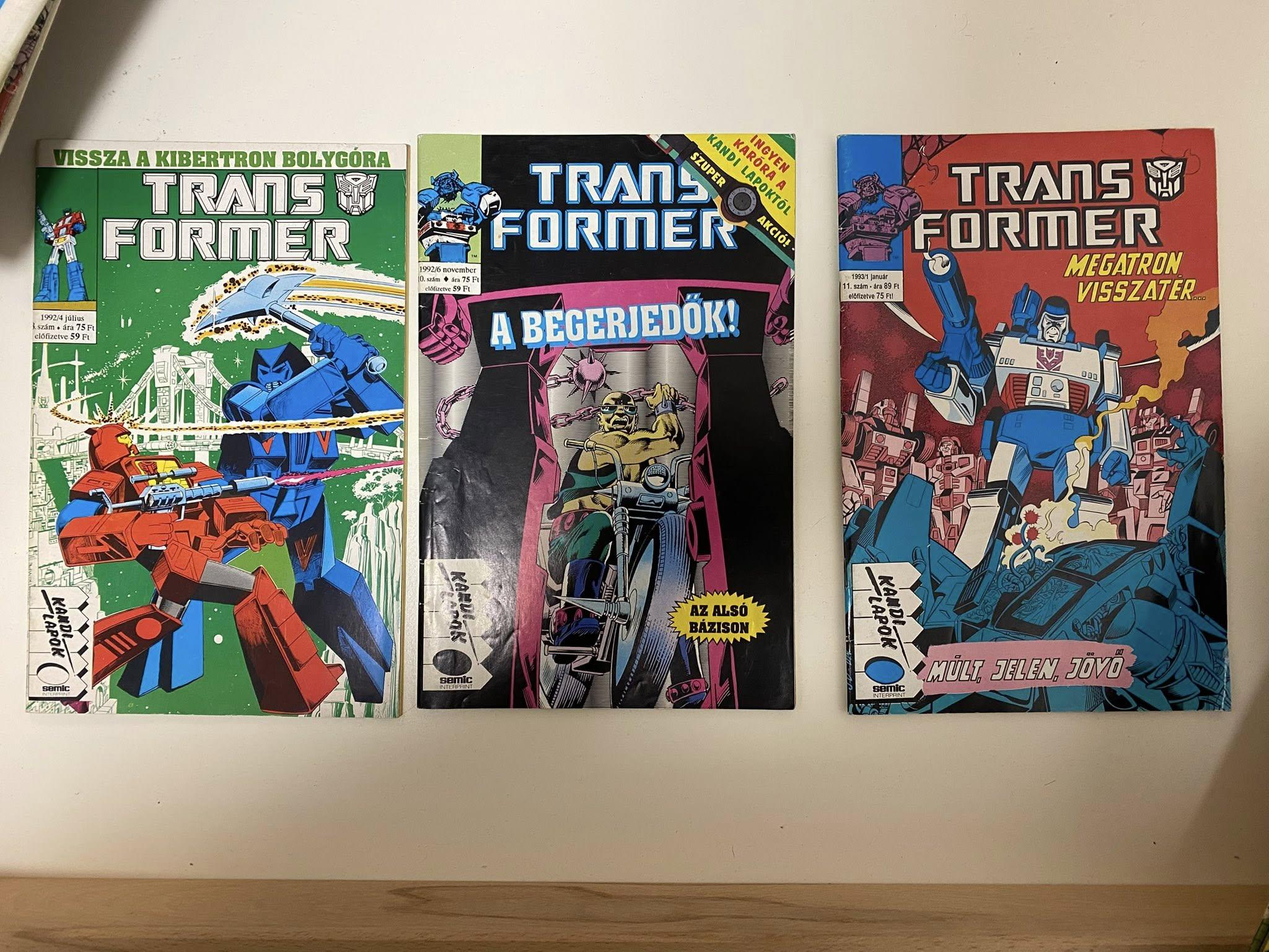comic: (835, 129, 1229, 714), (27, 140, 409, 717), (416, 132, 794, 708)
